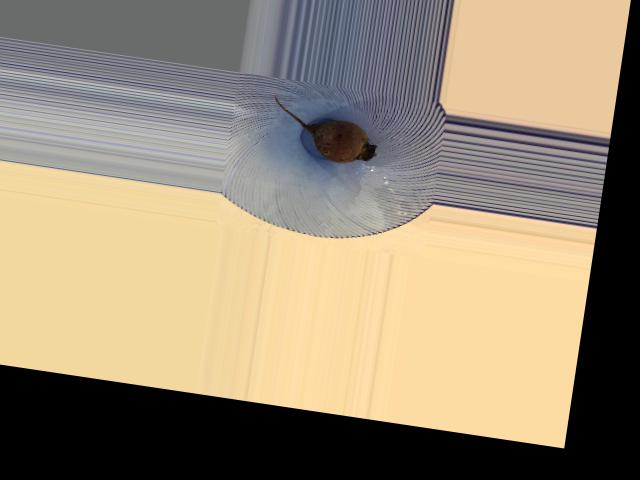beet: (267, 96, 382, 166)
